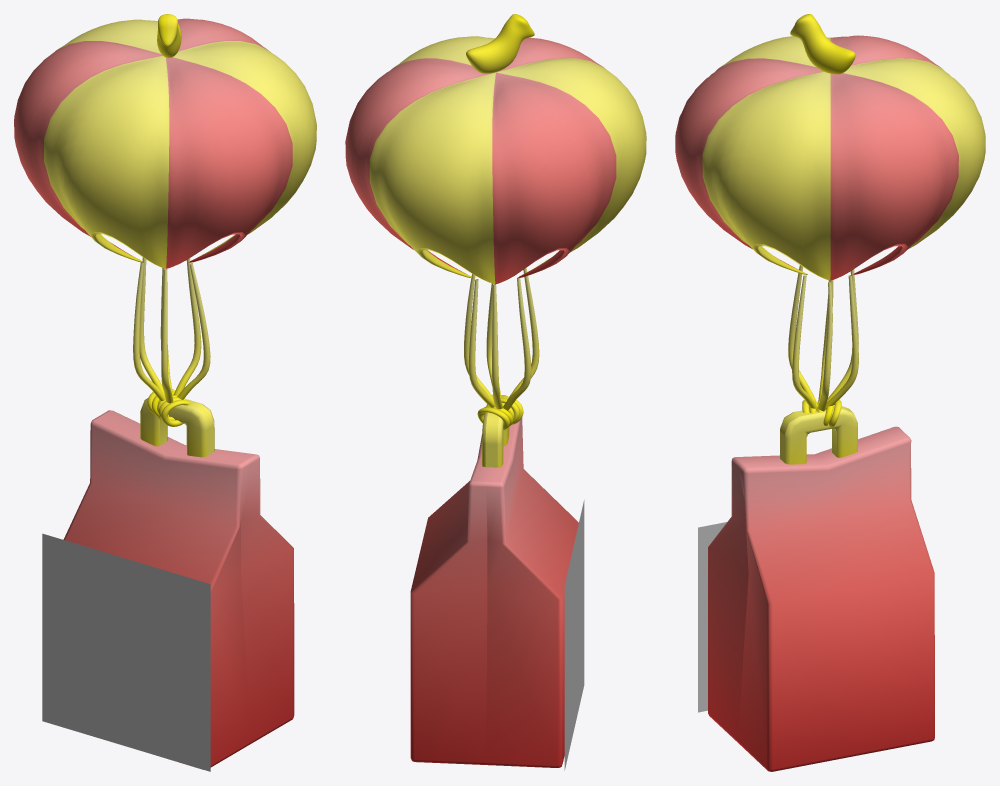
Rendered from HeavyMail.fbx.
3 renders of one model, left to right at view 1: azimuth 30°, elevation 25°; view 2: azimuth 150°, elevation 25°; view 3: azimuth 270°, elevation 25°, orthographic.
Visible parts, largest first — view 1: HeavyMailA_export; view 2: HeavyMailA_export; view 3: HeavyMailA_export.
Boxes of the visible parts, x1=… form: HeavyMailA_export: x1=14, y1=14, x2=316, y2=771; HeavyMailA_export: x1=345, y1=14, x2=646, y2=770; HeavyMailA_export: x1=675, y1=14, x2=985, y2=771.
Size of the model in its own units: 0.814 by 0.9071 by 2.28.
